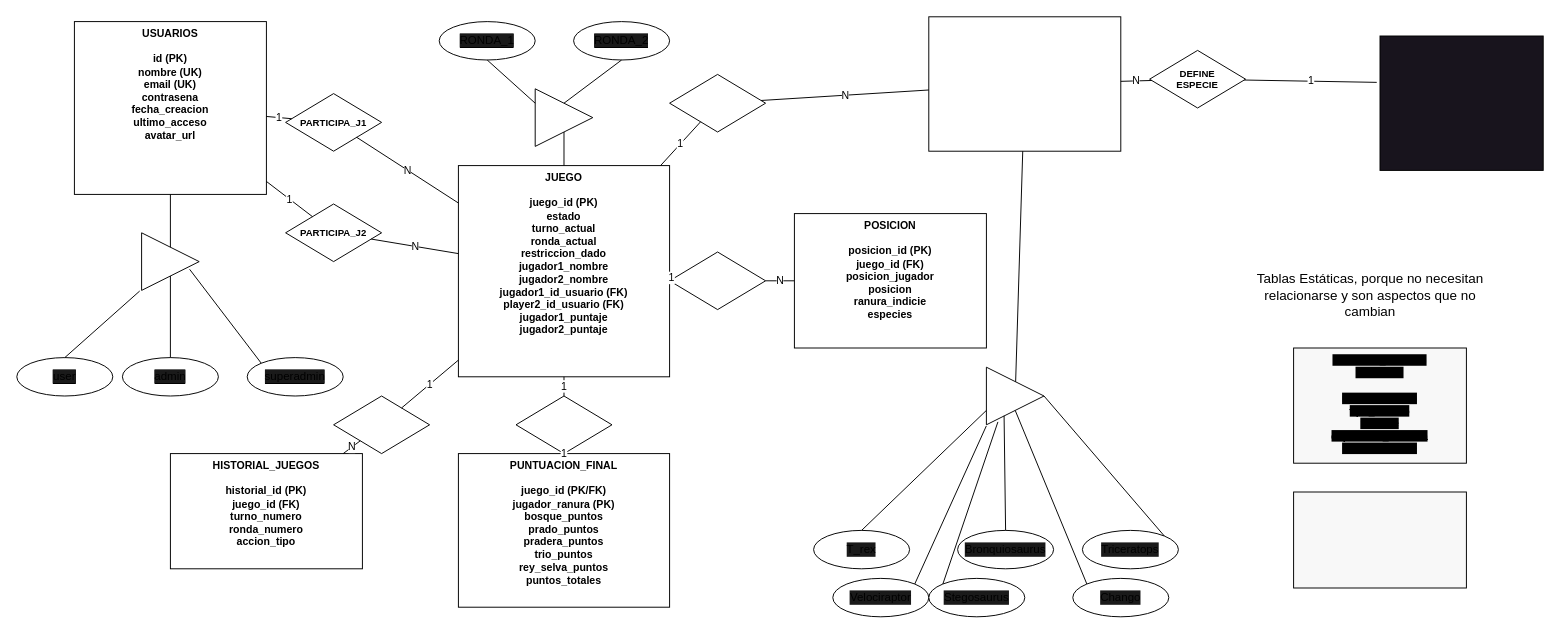
The diagram is 1560 pixels wide and 634 high, and some of its shapes have lost their labels. Each missing label, with the centre of its shape:
CONFIG_JUEGO (Estática) config_id (PK) config_nombre config_valor descripcion: pixel 1379 539
CONTIENE DINOSAURIOS: pixel 717 102
DINOSAURIOS_JUGADOR id (PK) juego_id (FK) posicion_jugador especies ronda_numero: pixel 1024 83
ESPECIES: pixel 1014 395
ESPECIES_DINOSAURIO (Estática) especies_id (PK) codigo_trex nombre descripcion: pixel 1461 102
ESTADO: pixel 563 117
GENERA PUNTUACION: pixel 563 424
REGISTRA HISTORIAL: pixel 381 424
ROL: pixel 170 261
TIENE POSICIONES: pixel 717 280
